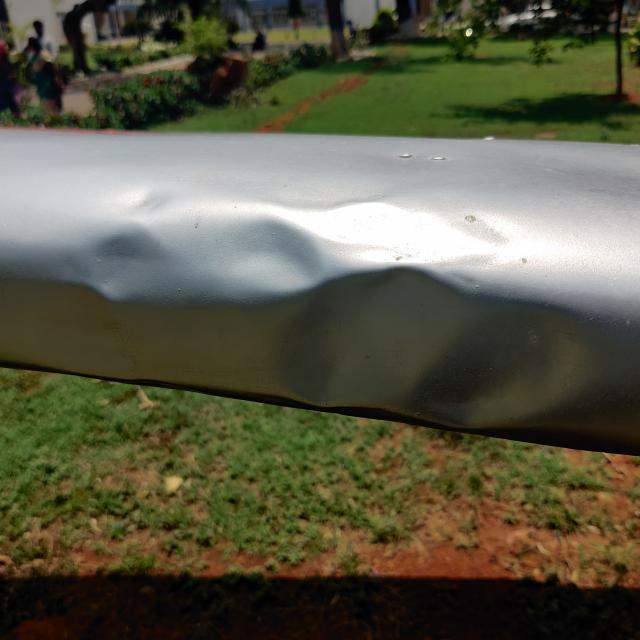dent: (217, 169, 618, 450), (60, 177, 192, 324)
